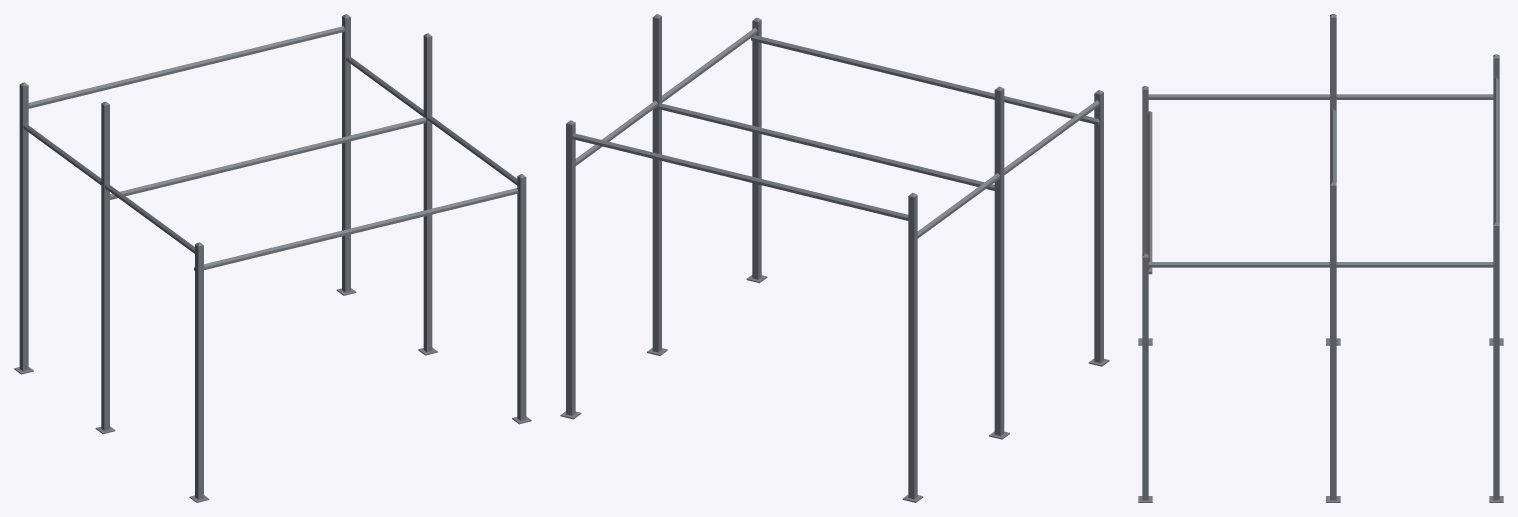
File: SM_Stall_Frame_Steel_02.fbx
3 views of the same model, side by side, from view 1: azimuth 30°, elevation 25°; view 2: azimuth 150°, elevation 25°; view 3: azimuth 270°, elevation 25° (orthographic). The views are drawn at different scales.
Parts seen in each view (by area): view 1: SM_Stall_Frame_Steel_02; view 2: SM_Stall_Frame_Steel_02; view 3: SM_Stall_Frame_Steel_02.
Part boxes in pixels (box(x1,y1,x2,y2)): SM_Stall_Frame_Steel_02: box(14, 14, 531, 502); SM_Stall_Frame_Steel_02: box(560, 14, 1109, 502); SM_Stall_Frame_Steel_02: box(1138, 14, 1503, 502).
Size of the model in its own units: 2.68 by 2.51 by 2.53.
1 material, 1 textured.
